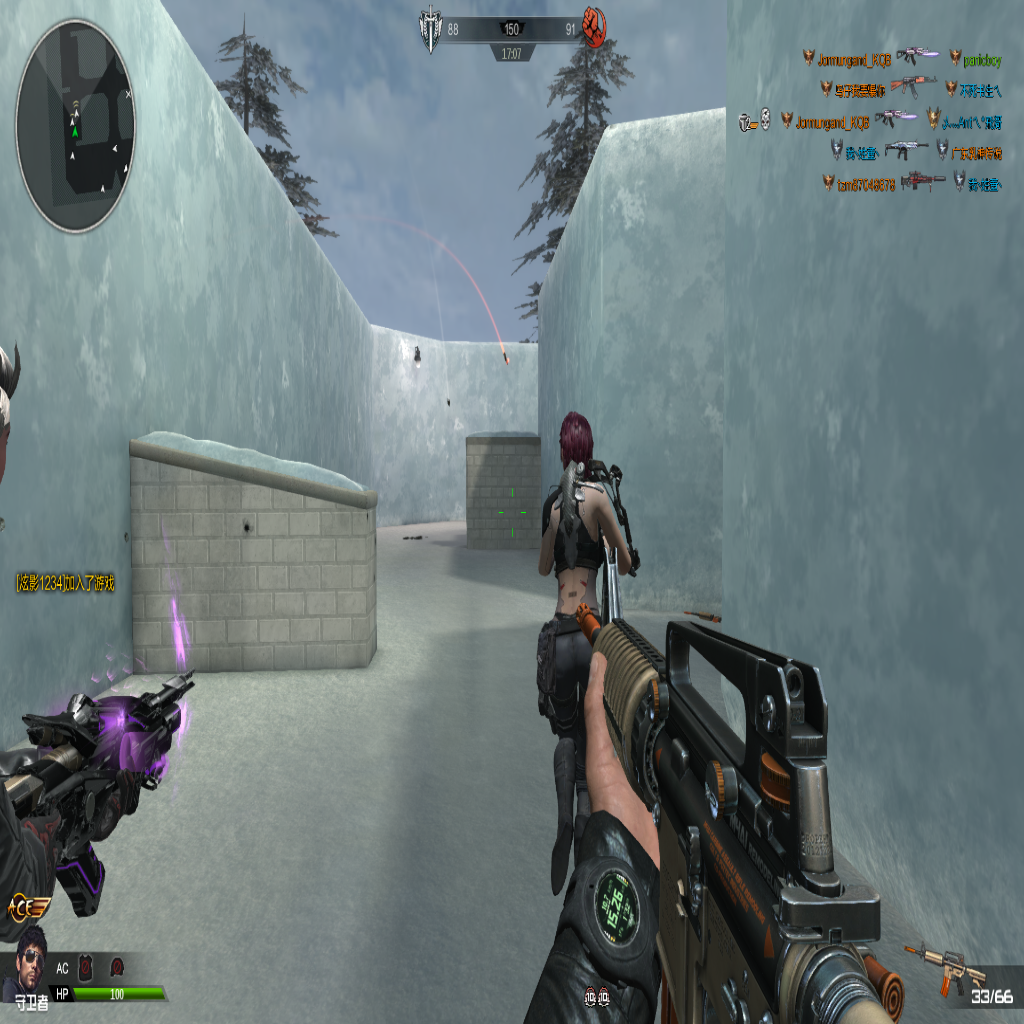ct: (534, 409, 641, 892)
